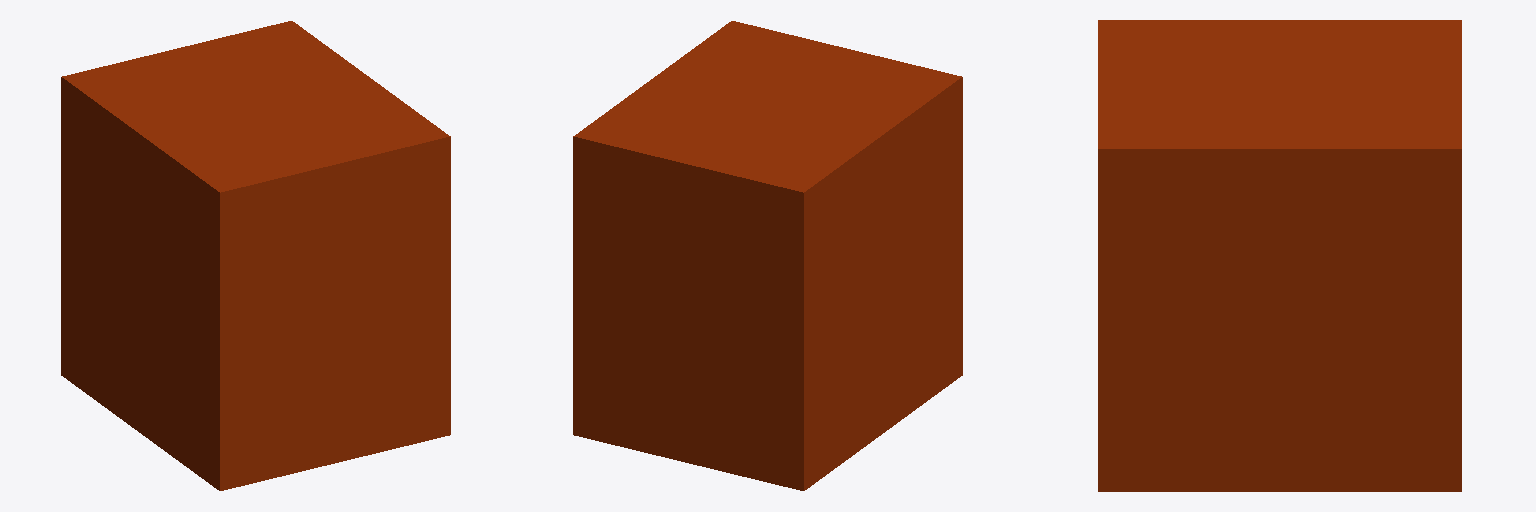
robot.urdf — thinkpadBox_stacked:
<robot
  name="thinkpadBox_stacked">
  <link name="thinkpadBox_stacked">
    <inertial>
      <origin xyz="0.0 0.0 0.0" rpy="0 0 0"/>
      <mass value="0.5"/>
      <inertia ixx="1" ixy="0.0" ixz="0.0" iyy="1" iyz="0.0" izz="1" />
    </inertial>

    <visual>
      <geometry>
        <mesh filename="../meshes/thinkpadBox_stacked.dae" scale="1 1 1" />
      </geometry>
     </visual>

    <collision>
      <geometry>
        <mesh filename="../meshes/thinkpadBox_stacked.dae" scale="1 1 1" /> <!-- _taller -->
      </geometry>
    </collision>

  </link>
</robot>

--- Render facts (derived) ---
3 views of the same robot in one strip: view 1: azimuth 30°, elevation 25°; view 2: azimuth 150°, elevation 25°; view 3: azimuth 270°, elevation 25° (orthographic).
Model thinkpadBox_stacked with 1 links and 0 joints (none), rooted at thinkpadBox_stacked, posed all joints at 0.
Links seen in each view (by area): view 1: thinkpadBox_stacked; view 2: thinkpadBox_stacked; view 3: thinkpadBox_stacked.
Boxes of the visible links, <box> form: thinkpadBox_stacked: <box>61,21,450,490</box>; thinkpadBox_stacked: <box>573,21,962,490</box>; thinkpadBox_stacked: <box>1098,20,1461,491</box>.
Size in the robot's own frame: 0.21 by 0.25 by 0.26 metres.
Meshes: 1 distinct files referenced, 1 mesh visuals loaded (1 Collada DAE).